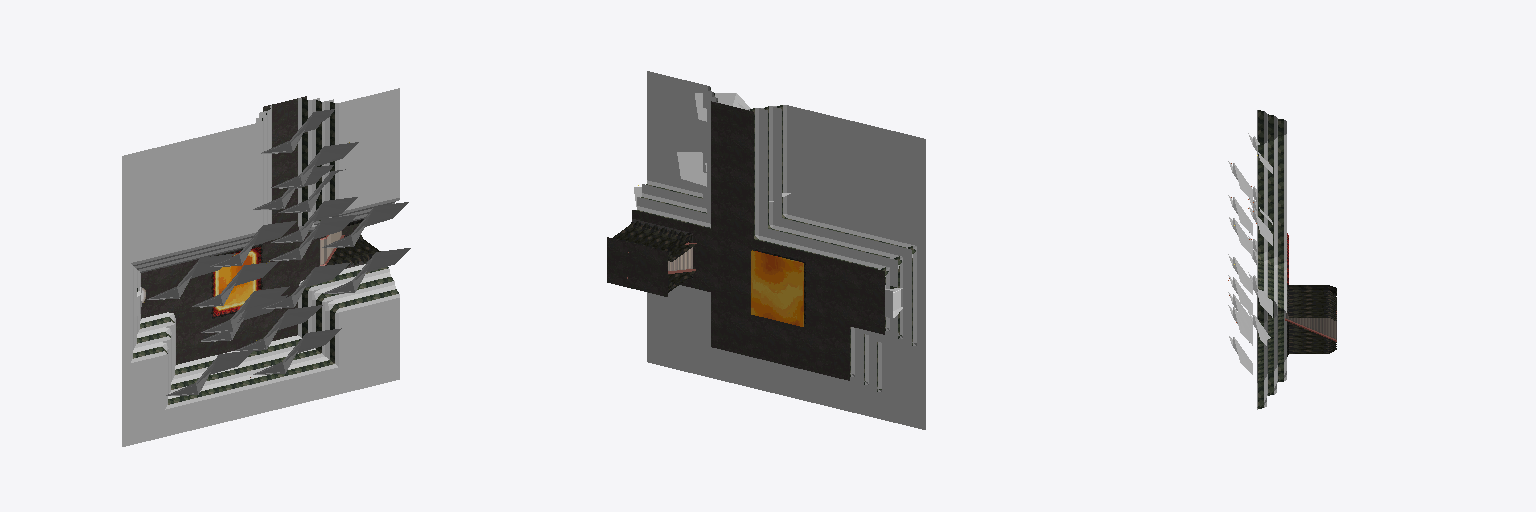
3 renders of one model, left to right at view 1: azimuth 30°, elevation 25°; view 2: azimuth 150°, elevation 25°; view 3: azimuth 270°, elevation 25°, orthographic.
Parts seen in each view (by area): view 1: map; view 2: map; view 3: map.
Part boxes in pixels (x1,y1,x2,y2): map: (122, 88, 410, 446); map: (607, 71, 925, 429); map: (1228, 110, 1336, 409).
Size of the model in its own units: 33.59 by 32.34 by 11.46.
Materials: 21 (13 with a texture image).